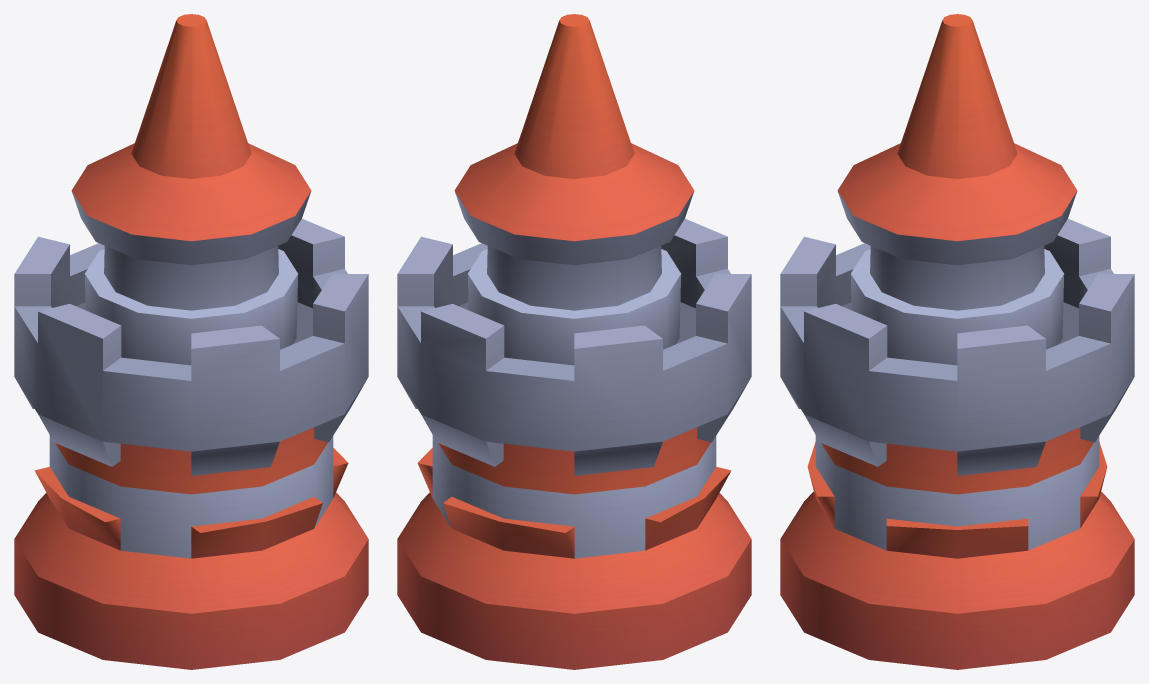
Rendered from tower-round-build-f.fbx.
The picture shows the model from 3 angles, left to right: view 1: azimuth 30°, elevation 25°; view 2: azimuth 150°, elevation 25°; view 3: azimuth 270°, elevation 25°; orthographic projection.
Visible parts, largest first — view 1: tower-round-build-f; view 2: tower-round-build-f; view 3: tower-round-build-f.
Part boxes in pixels (x1,y1,x2,y2): tower-round-build-f: (14,14,368,669); tower-round-build-f: (397,14,751,669); tower-round-build-f: (780,14,1134,669).
Size of the model in its own units: 100 by 179 by 100.
